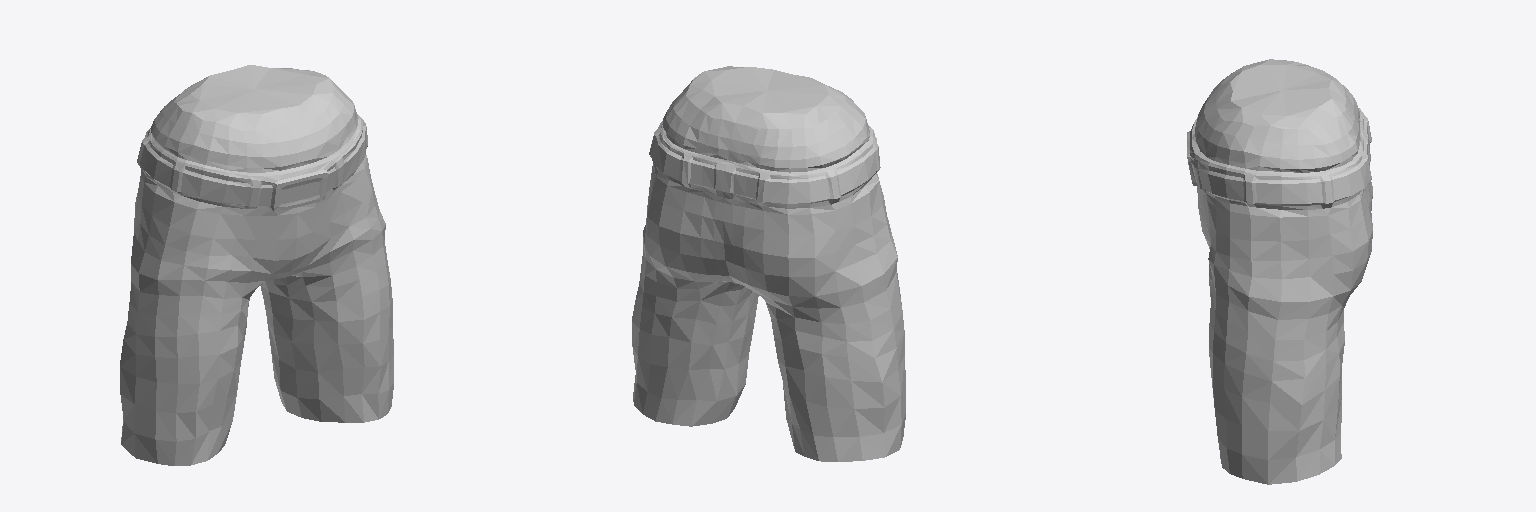
The model's file is pants_separate.obj.
3 renders of one model, left to right at view 1: azimuth 30°, elevation 25°; view 2: azimuth 150°, elevation 25°; view 3: azimuth 270°, elevation 25°, orthographic.
Visible parts, largest first — view 1: pants2 exp; view 2: pants2 exp; view 3: pants2 exp.
Part boxes in pixels (x1,y1,x2,y2): pants2 exp: (120,65,393,465); pants2 exp: (632,66,905,461); pants2 exp: (1187,59,1372,484).
Bounding box in the file's own units: 14.62 × 18.36 × 9.24.